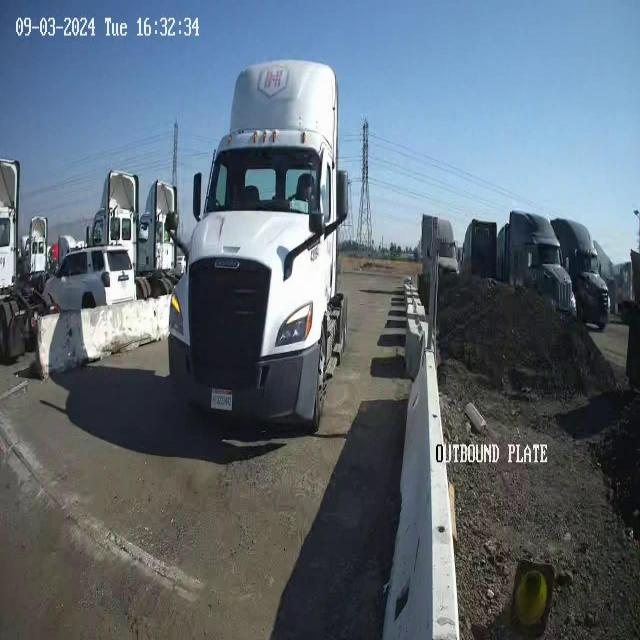BOBTAIL: (165, 57, 352, 441)
